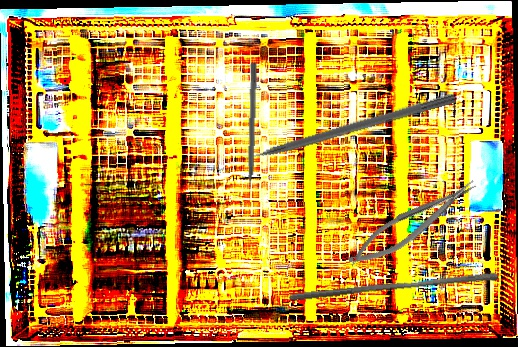Needle Holder: (341, 174, 485, 274)
Pusher: (226, 90, 457, 169), (287, 264, 500, 310), (244, 62, 258, 202)
